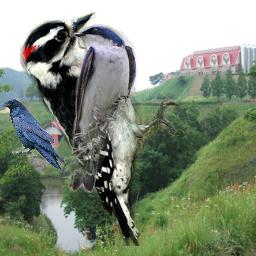Crow: (0, 98, 66, 169)
Swallow: (65, 24, 138, 193)
Woodpecker: (20, 12, 190, 246)
